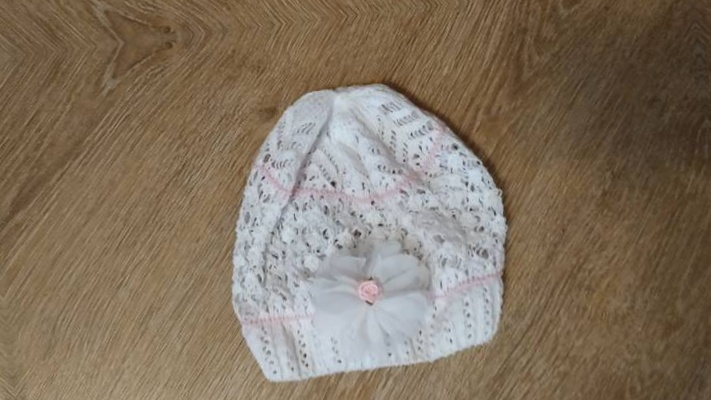Hat: (156, 40, 545, 400)
